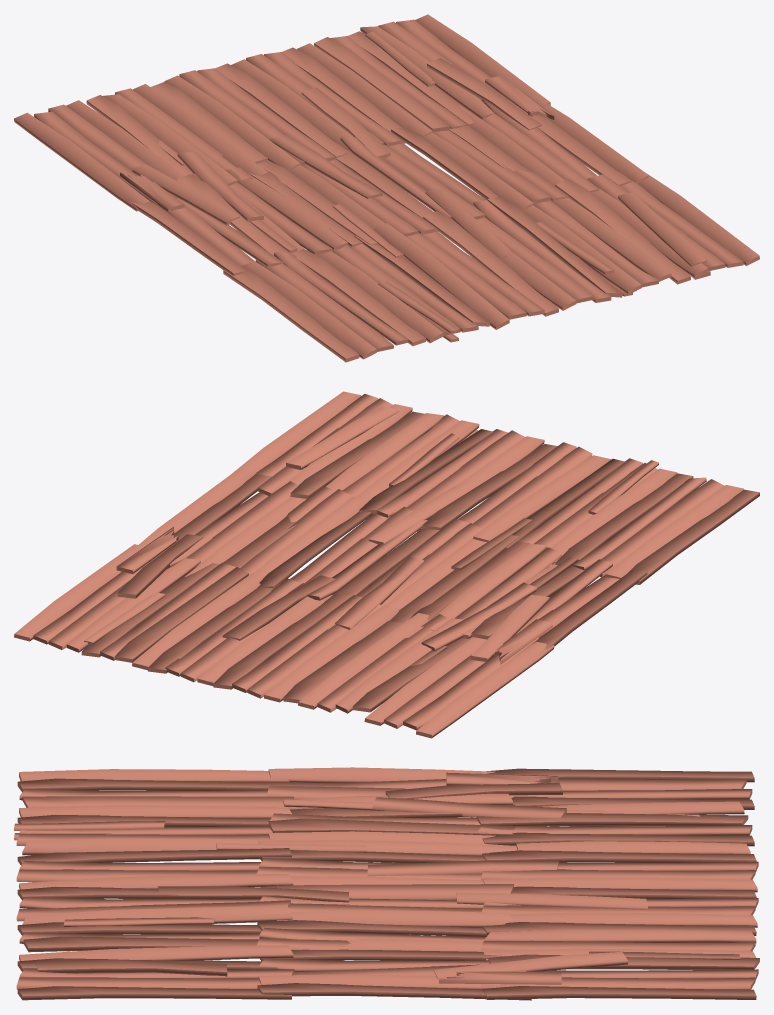
Rendered from floor_01.fbx.
3 views of the same model, one above another, from view 1: azimuth 30°, elevation 25°; view 2: azimuth 150°, elevation 25°; view 3: azimuth 270°, elevation 25° (orthographic). The views are drawn at different scales.
Visible parts, largest first — view 1: Plane.013; view 2: Plane.013; view 3: Plane.013.
Boxes of the visible parts, x1,y1,x2,y2 form: Plane.013: (14,14,759,362); Plane.013: (14,391,759,738); Plane.013: (14,767,759,1000).
Size of the model in its own units: 7.92 by 0.3739 by 10.96.
